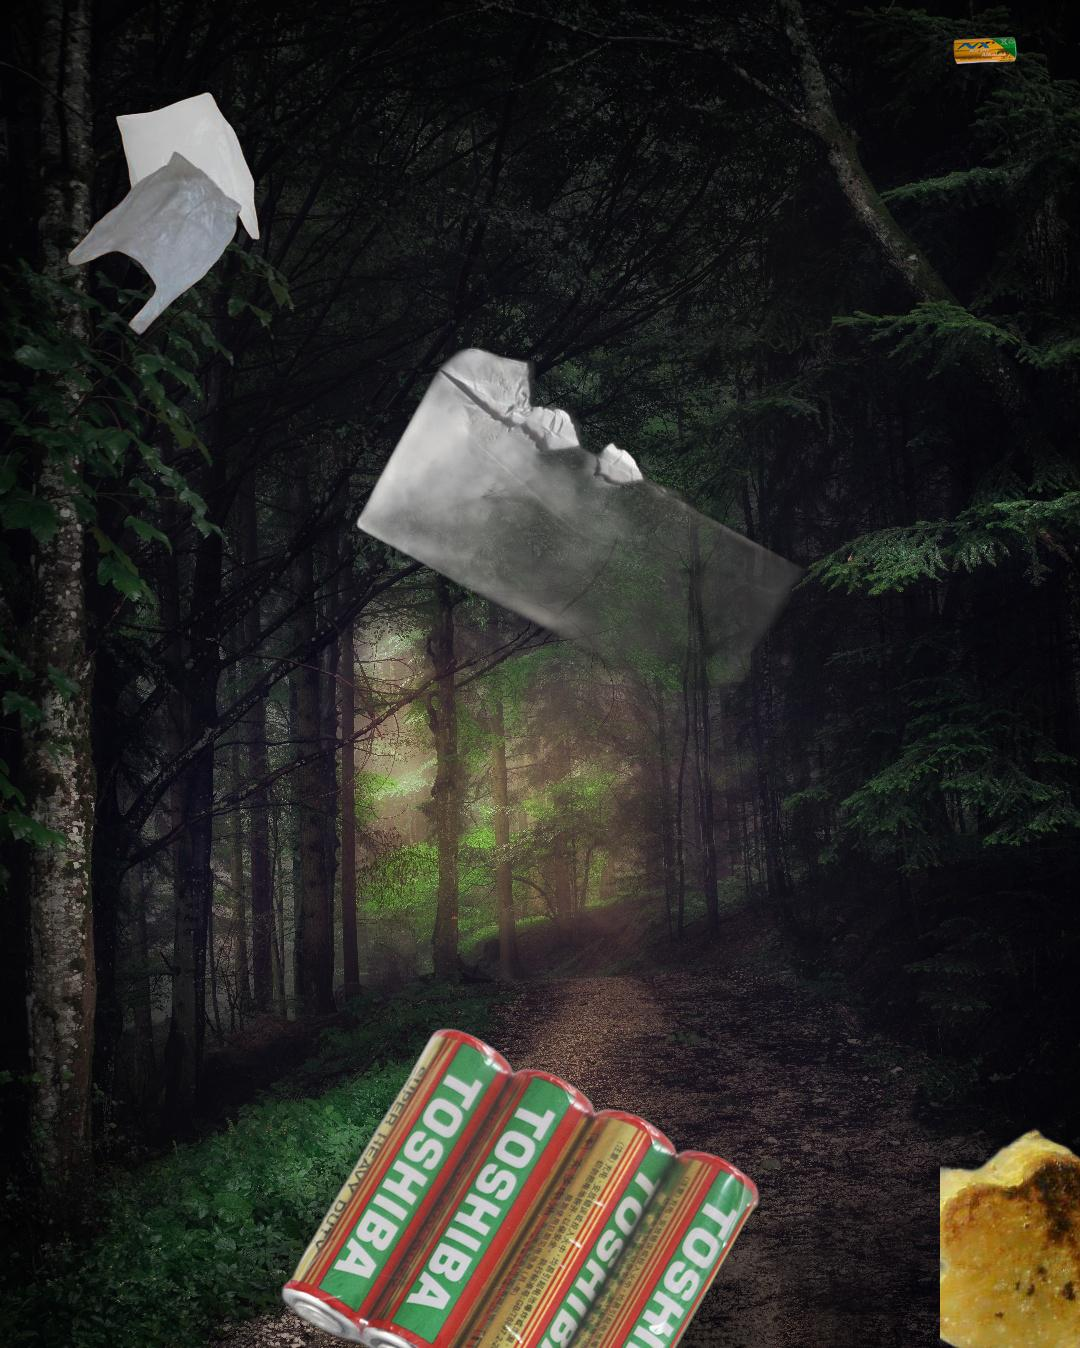battery: (276, 1022, 766, 1348), (950, 34, 1019, 67)
biological: (940, 1063, 1080, 1348)
paper: (316, 341, 816, 690)
plastic-bag: (65, 89, 263, 338)
